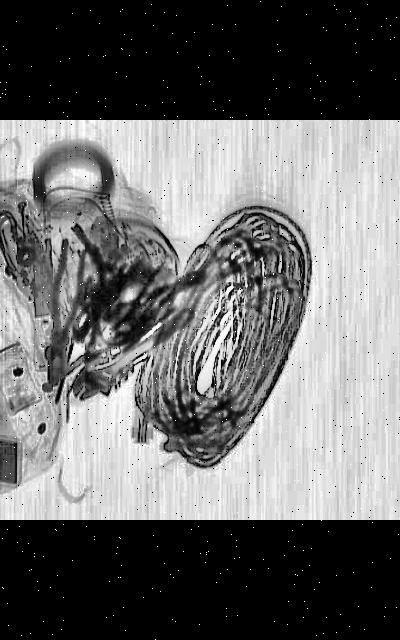Pliers: (37, 240, 94, 388)
Wrench: (56, 300, 212, 410)
